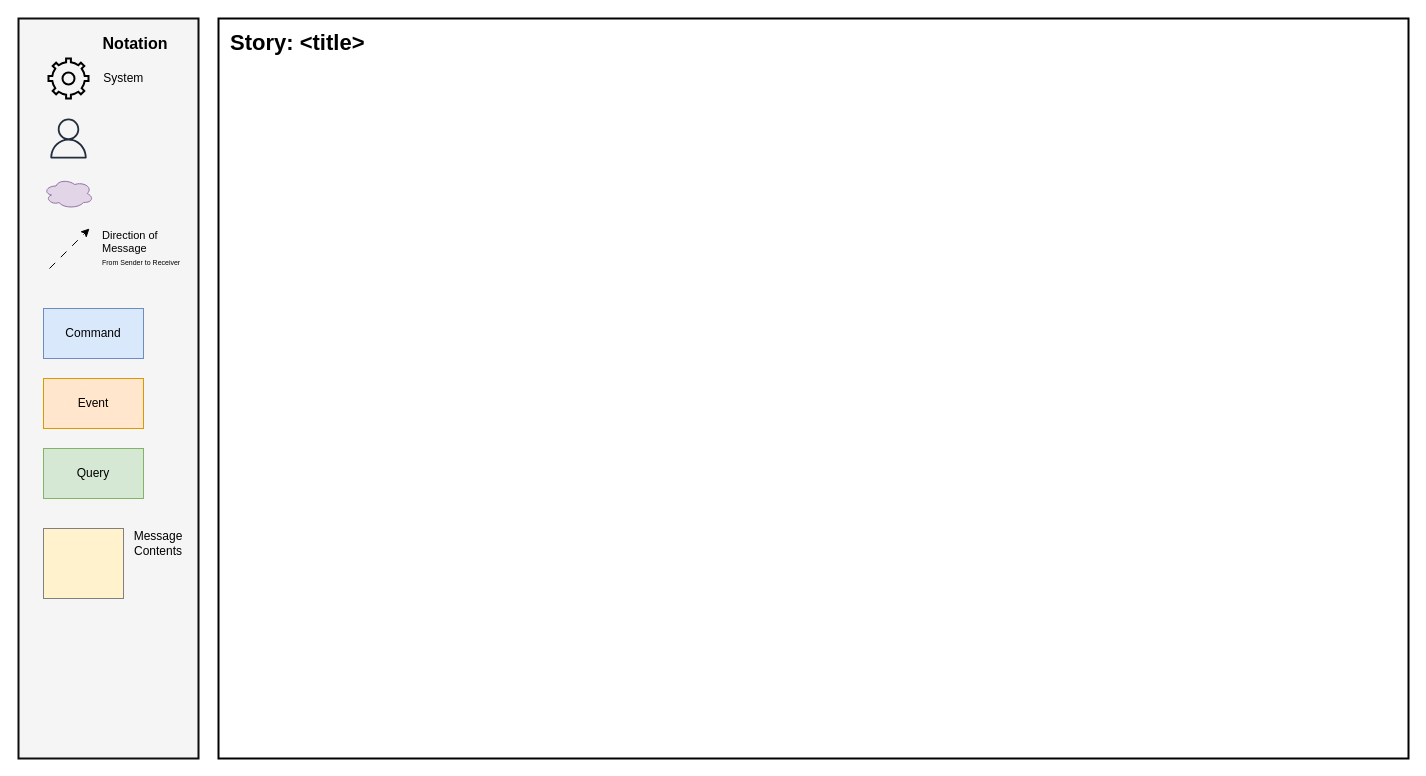
The diagram is 1426 pixels wide and 776 high, and some of its shapes have lost their labels. Each missing label, with the box of its shape:
- field1 - field 2 - field 3 - field 4: (42, 528, 124, 598)
Actor / User / Persona: (48, 118, 88, 158)
Bounded Context: (42, 178, 94, 208)
